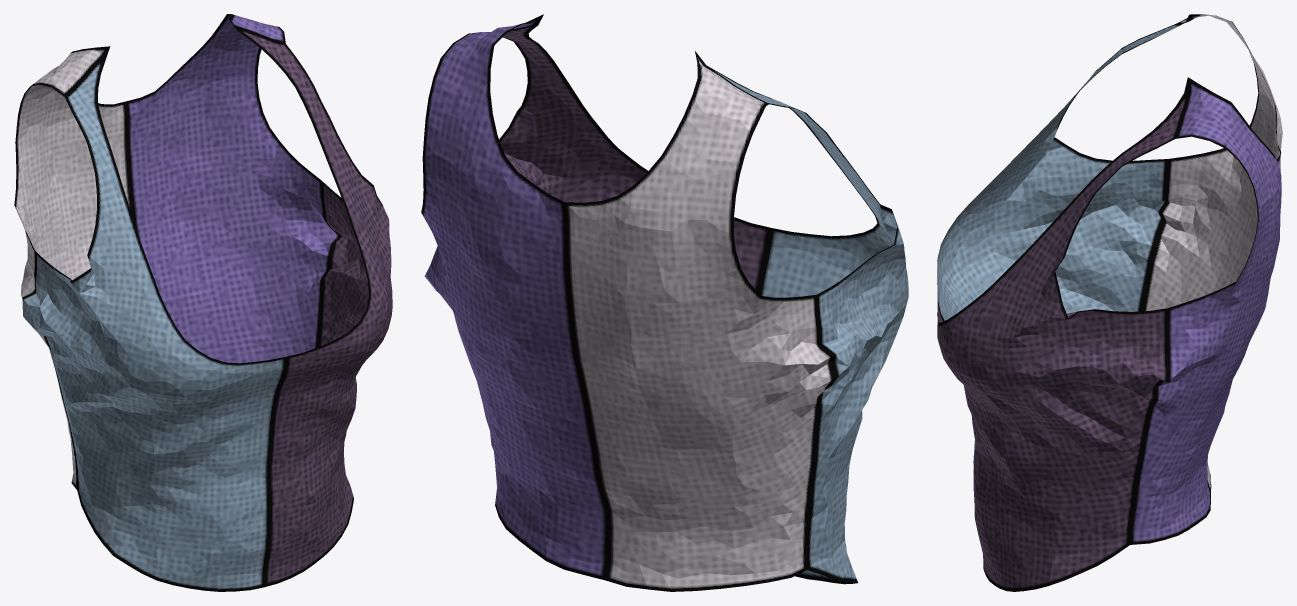
File: tank_knit2_b100_sim.obj
3 renders of one model, left to right at view 1: azimuth 30°, elevation 25°; view 2: azimuth 150°, elevation 25°; view 3: azimuth 270°, elevation 25°, orthographic. The views are drawn at different scales.
Size of the model in its own units: 23.61 by 33.73 by 20.38.
1 material, 1 textured.
